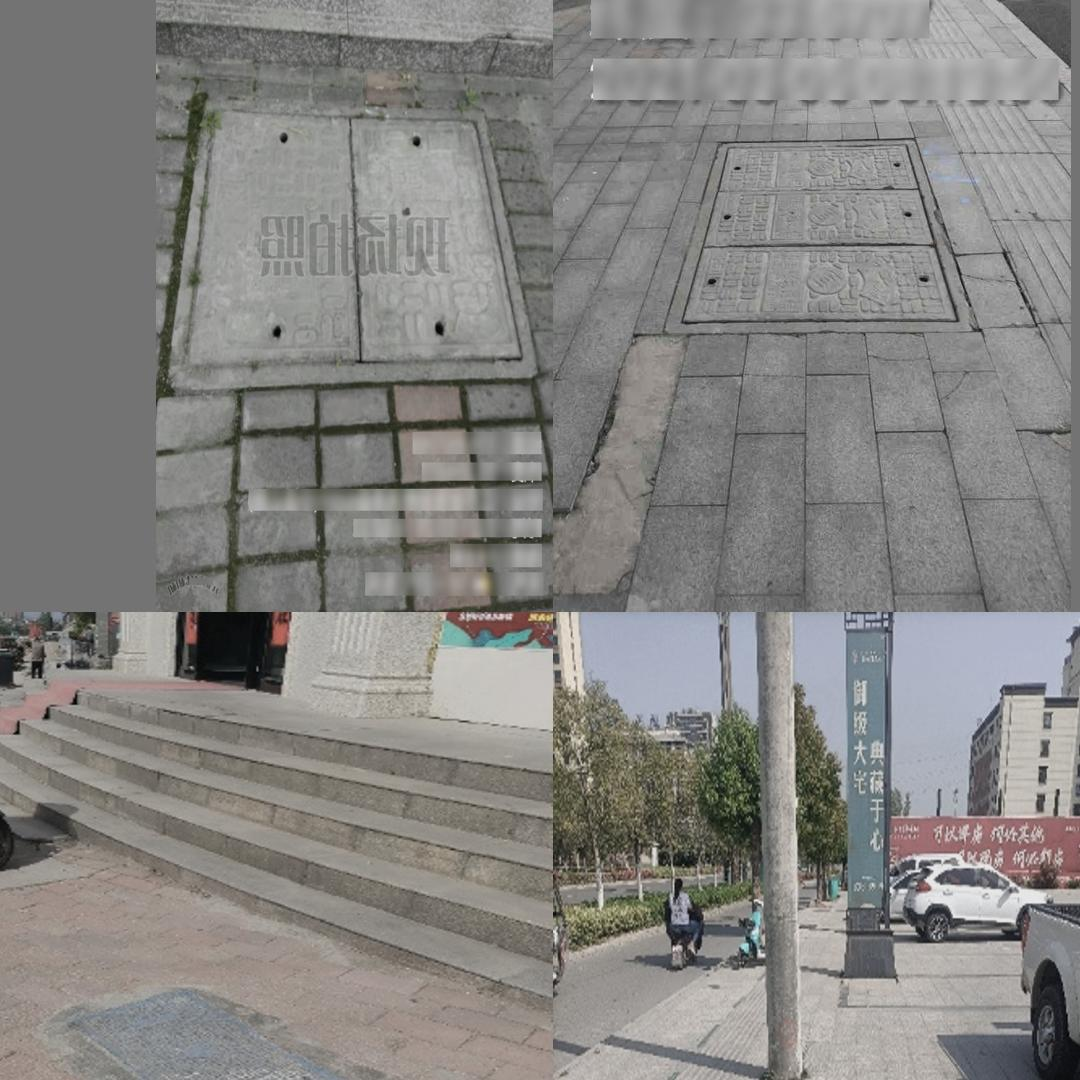good: (181, 105, 535, 375), (662, 138, 977, 335), (70, 988, 357, 1080)
